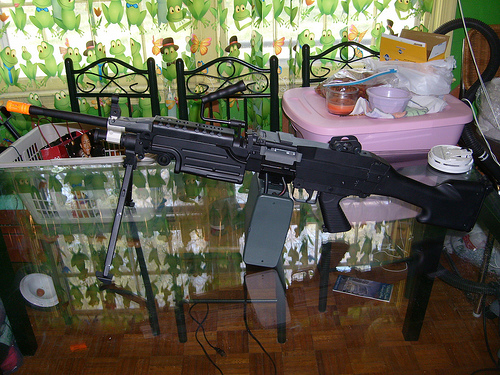rifle: (6, 82, 484, 325)
